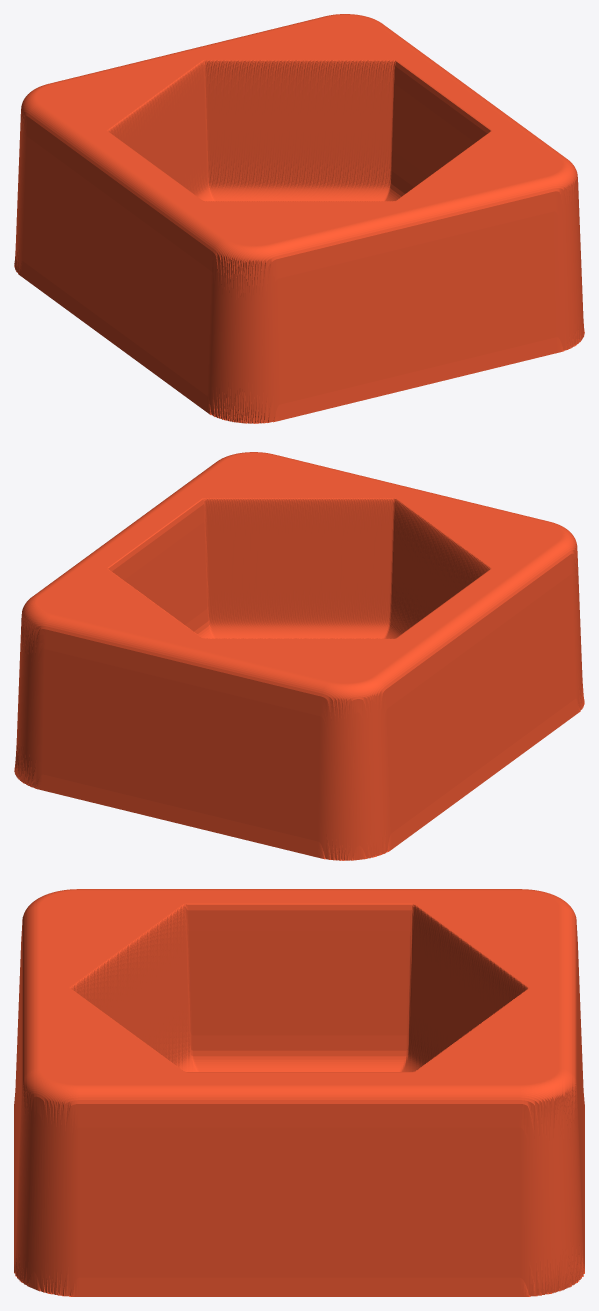
The model's file is mold.glb.
3 renders of one model, top to bottom at view 1: azimuth 30°, elevation 25°; view 2: azimuth 150°, elevation 25°; view 3: azimuth 270°, elevation 25°, orthographic. The views are drawn at different scales.
Parts seen in each view (by area): view 1: geometry_0; view 2: geometry_0; view 3: geometry_0.
Part boxes in pixels (x1,y1,x2,y2): geometry_0: (14, 14, 584, 423); geometry_0: (14, 452, 584, 860); geometry_0: (14, 889, 584, 1296).
Bounding box in the file's own units: 0.0714 × 0.031 × 0.0798.
